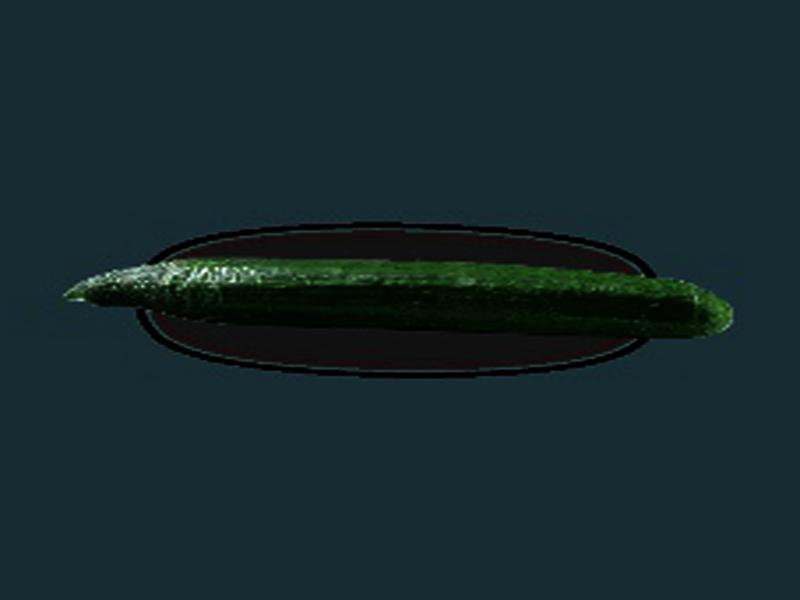Cucumber: (62, 259, 736, 341)
